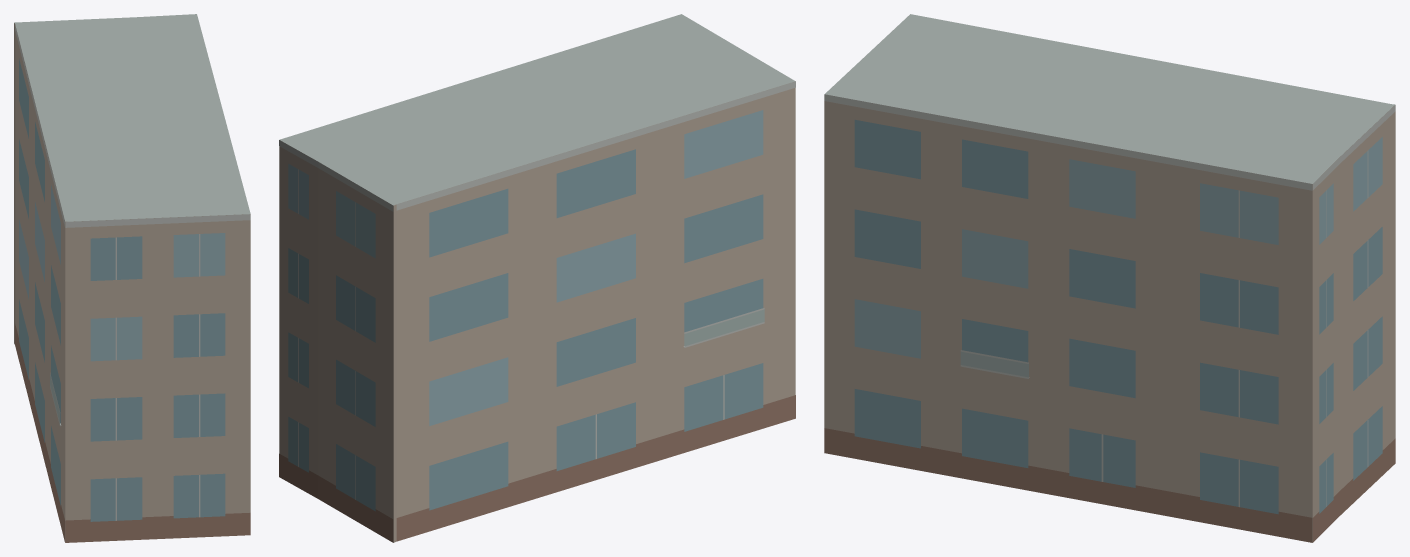
Rendered from survey-upis-32605389.glb.
3 renders of one model, left to right at view 1: azimuth 30°, elevation 25°; view 2: azimuth 150°, elevation 25°; view 3: azimuth 270°, elevation 25°, orthographic. The views are drawn at different scales.
Visible parts, largest first — view 1: survey-upis-32605389.tmp; view 2: survey-upis-32605389.tmp; view 3: survey-upis-32605389.tmp.
Boxes of the visible parts, <box> form: survey-upis-32605389.tmp: <box>14,14,250,542</box>; survey-upis-32605389.tmp: <box>279,14,795,542</box>; survey-upis-32605389.tmp: <box>824,14,1395,542</box>.
Bounding box in the file's own units: 13.12 × 12.9 × 18.62.
